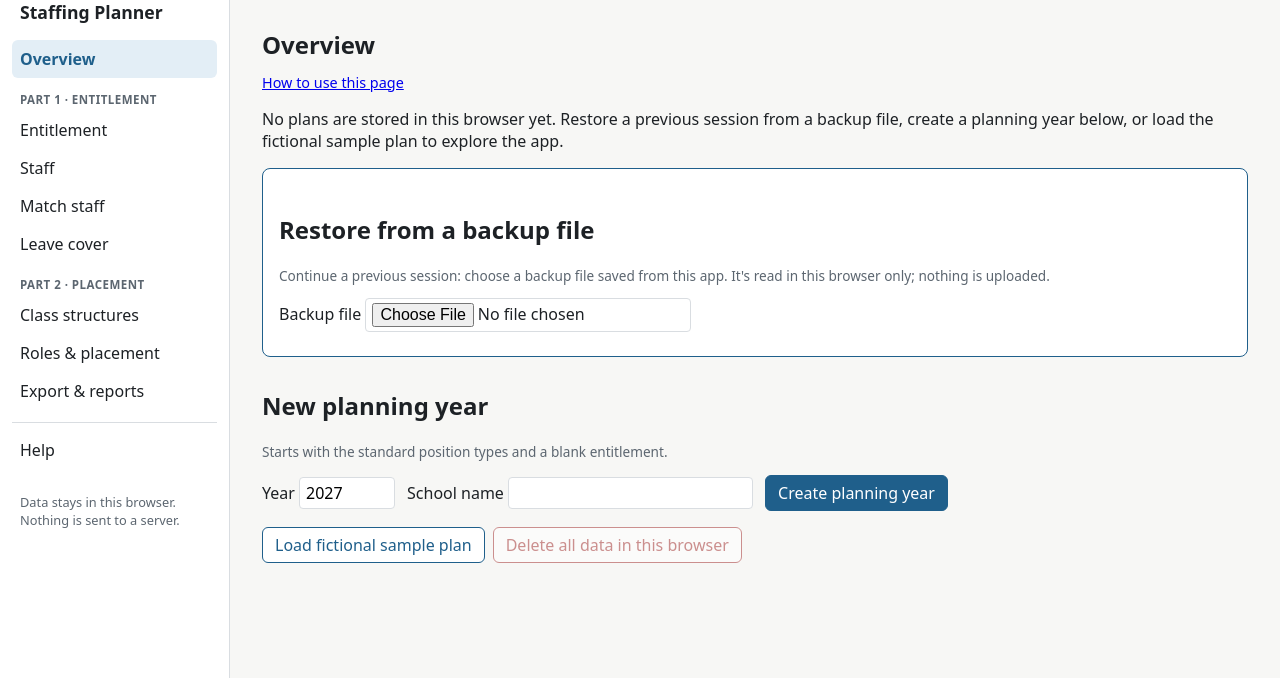
it: Class structures › adds and removes classes by hand
Click the button "Load fictional sample plan" at (373, 545), box [262,527,485,563]
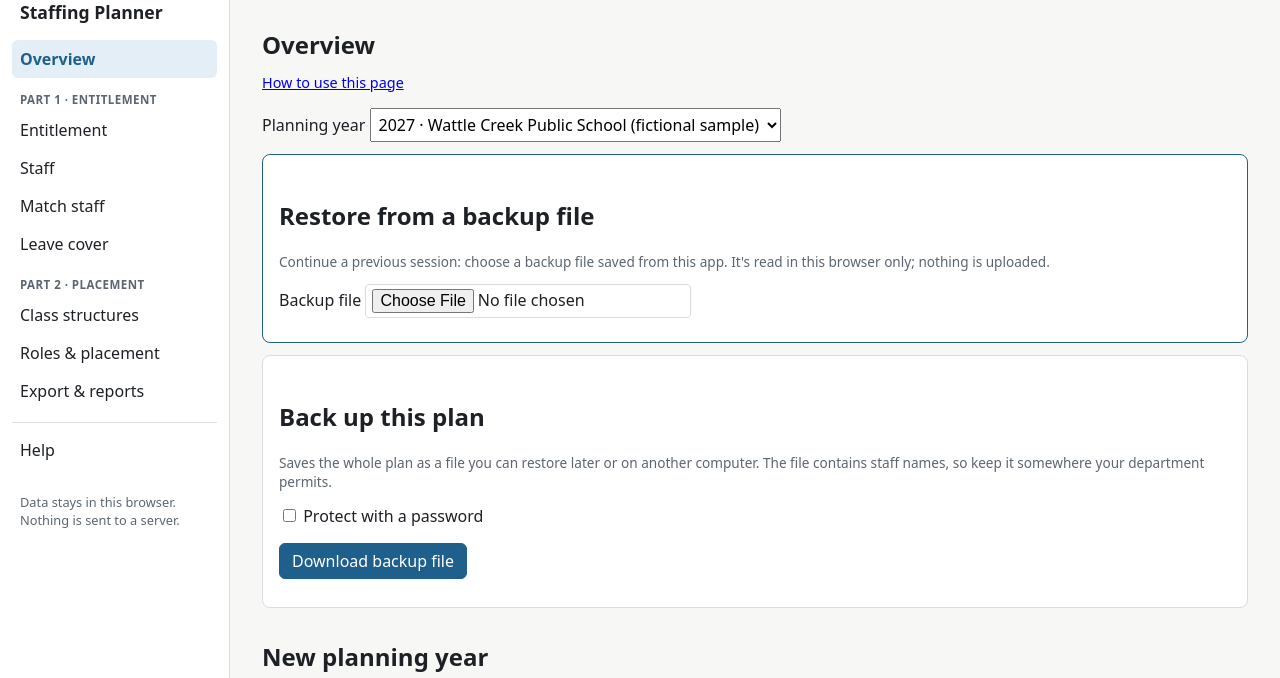
Click the link "Class structures" at (80, 315), box [20,304,139,326]
(page scrolled)
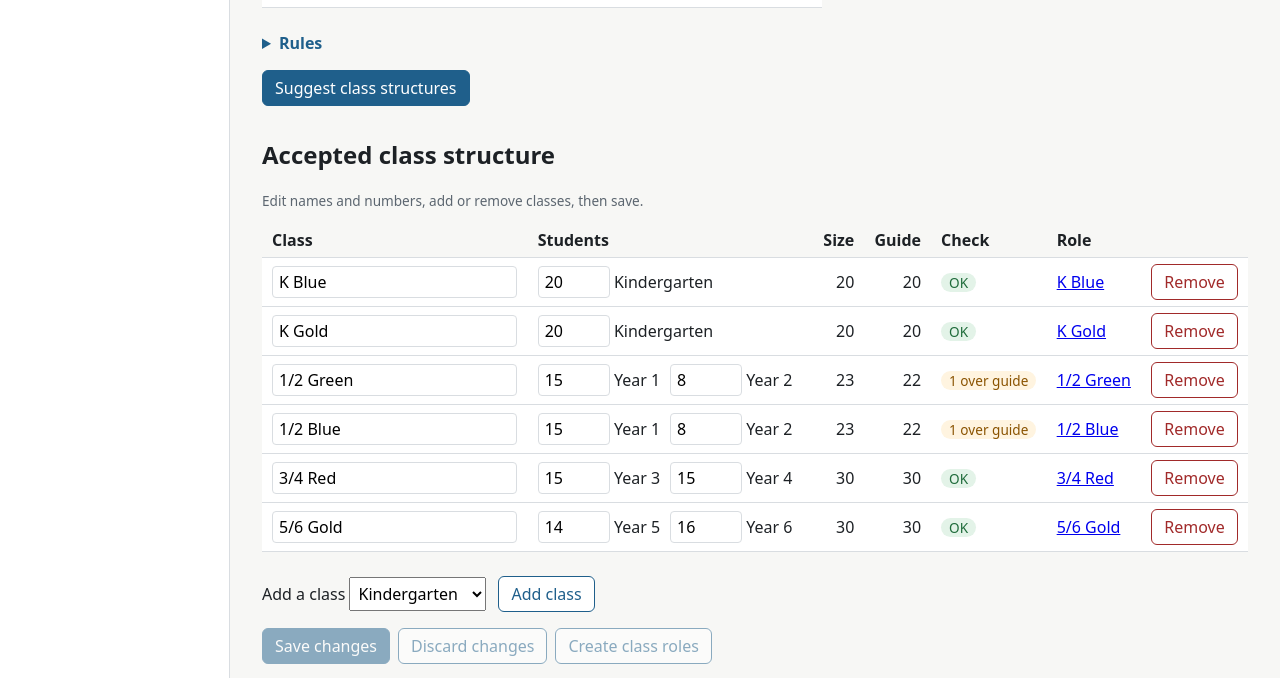
Select "3/4 composite" in the dropdown labelled "Add a class" at (418, 594), box [350,577,486,611]
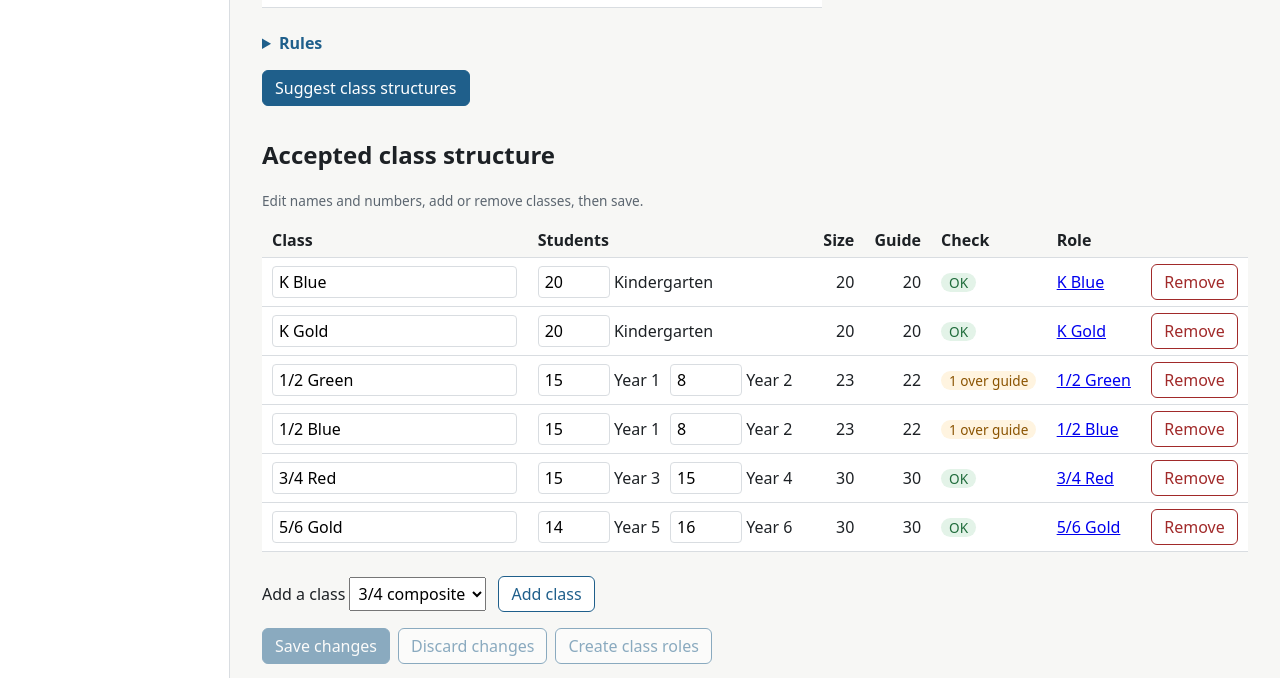
Click the button "Add class" at (547, 594), box [498,576,595,612]
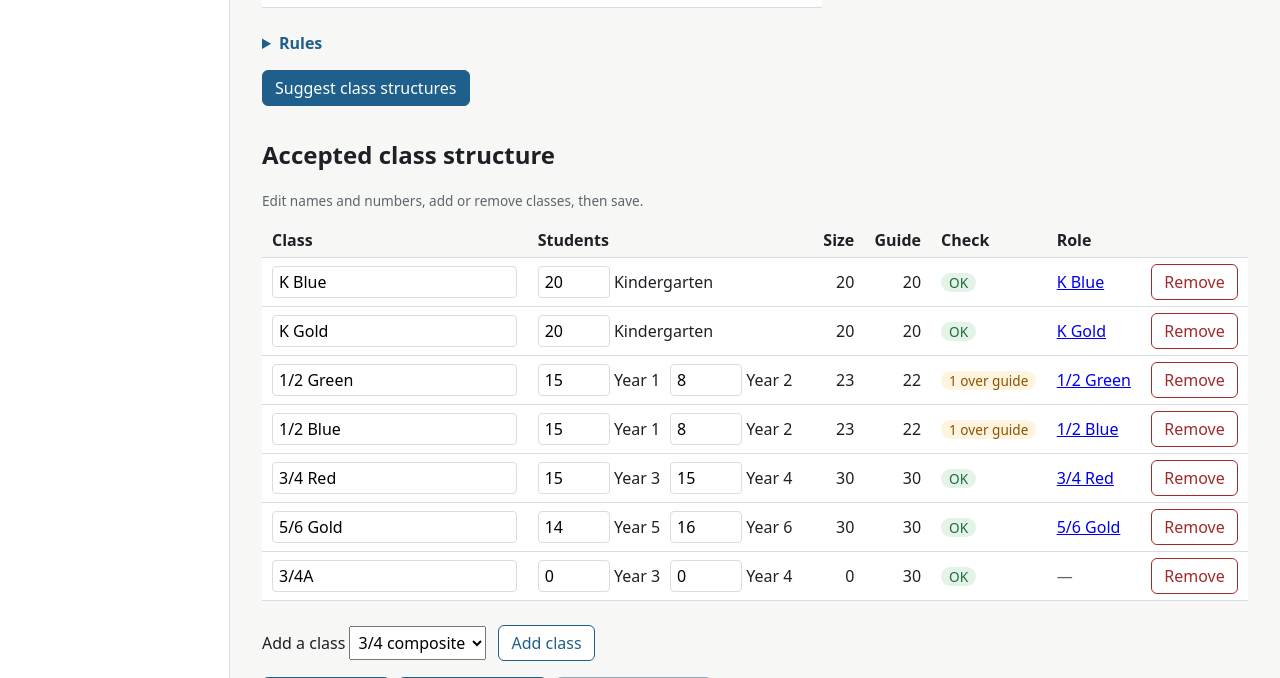
Result: the field named "Name of class 3/4A" is shown at [272,560,517,592]
Result: the field named "Year 3 students in 3/4A" holds "0" at [538,560,610,592]
